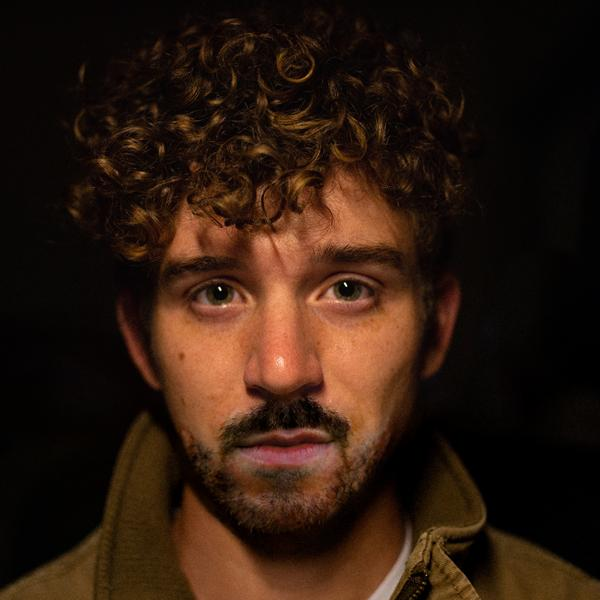Eyes: (299, 262, 399, 318), (170, 271, 255, 324)
